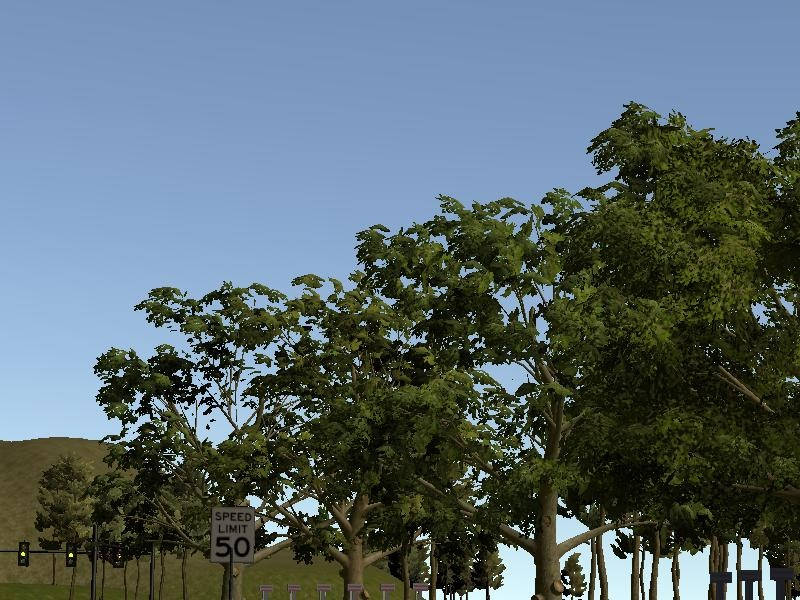yellow: (19, 542, 30, 567), (66, 544, 77, 568)
